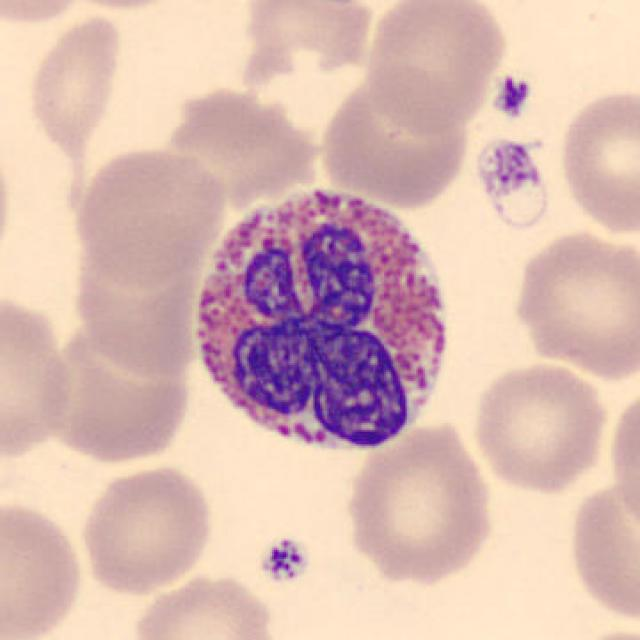Eosinophil: (181, 171, 464, 467)
Platelets: (471, 134, 553, 233), (256, 533, 311, 587), (492, 72, 534, 120)
RBC: (340, 418, 500, 587), (68, 143, 230, 287), (314, 65, 474, 210), (507, 225, 638, 382), (361, 0, 508, 134), (468, 358, 610, 495), (76, 462, 217, 598), (170, 91, 325, 211), (21, 9, 128, 160), (234, 0, 382, 100), (554, 83, 640, 240), (0, 285, 76, 462), (0, 495, 87, 640), (562, 469, 638, 628), (128, 569, 281, 640), (606, 378, 640, 548), (0, 0, 100, 28), (0, 127, 18, 282), (41, 0, 199, 12), (556, 622, 638, 640)
